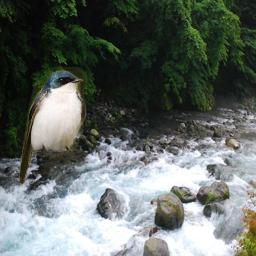Swallow: (19, 66, 87, 185)
